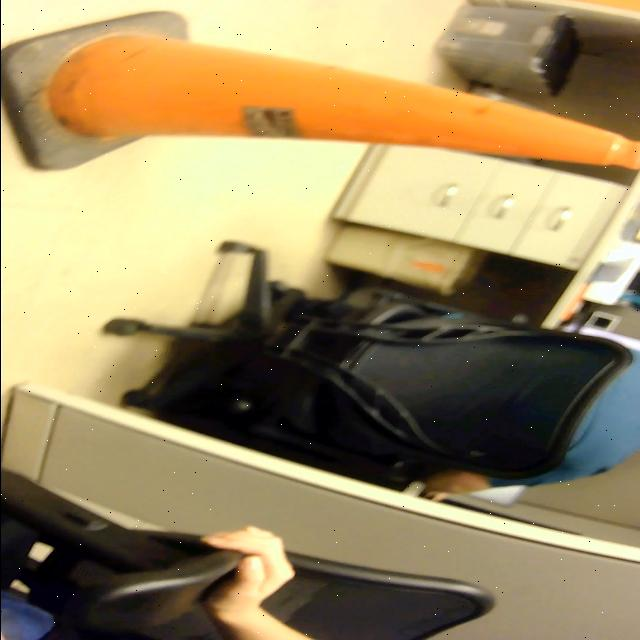traffic cone: (1, 6, 640, 180)
